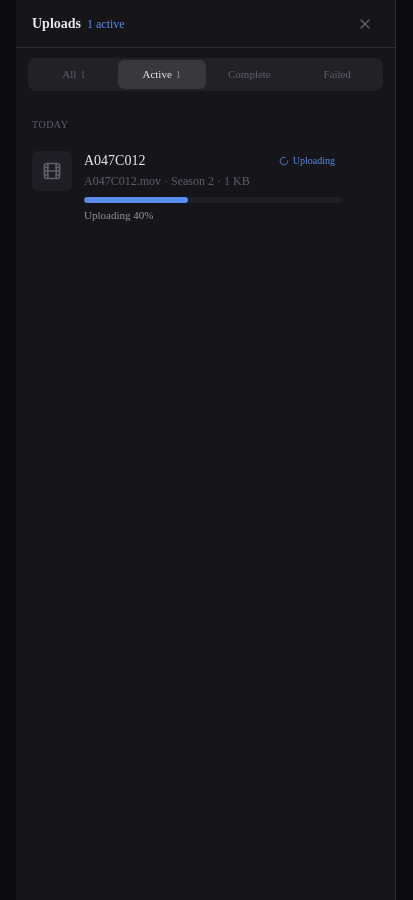
Test: renaming from the uploads panel › discards the edit on Escape
Click the button "A047C012" at (159, 160), box [84,150,235,170]
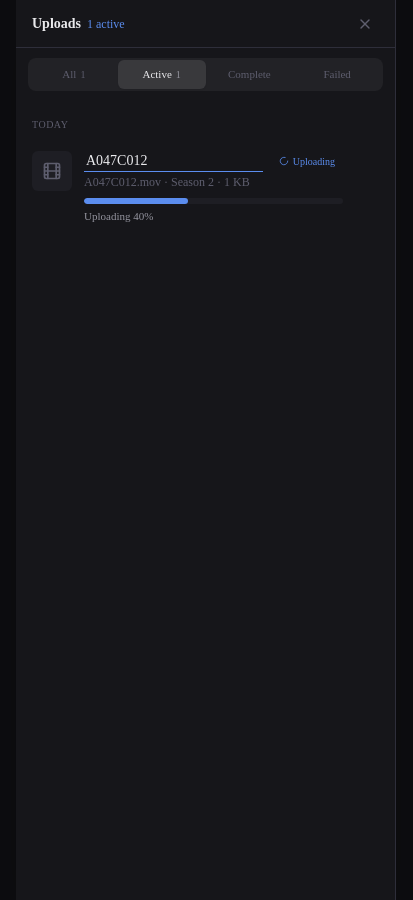
Replace the text in the field named "Asset name" with "Ep04" at (173, 161), box [84,150,263,172]
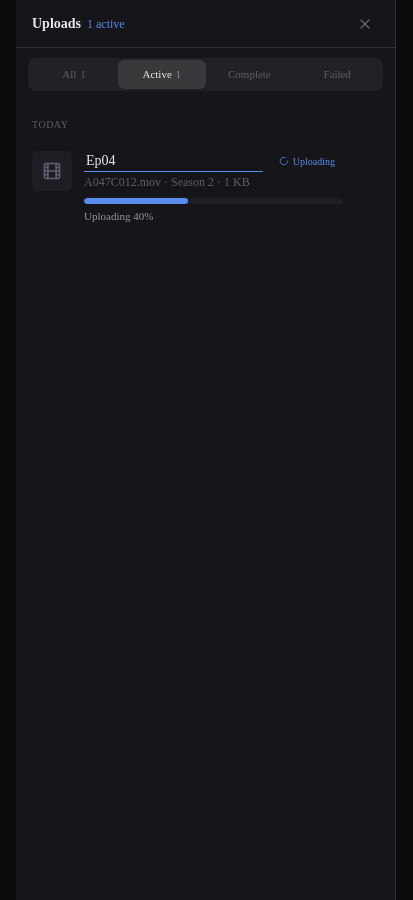
Press Escape in the field named "Asset name", box [84,150,263,172]
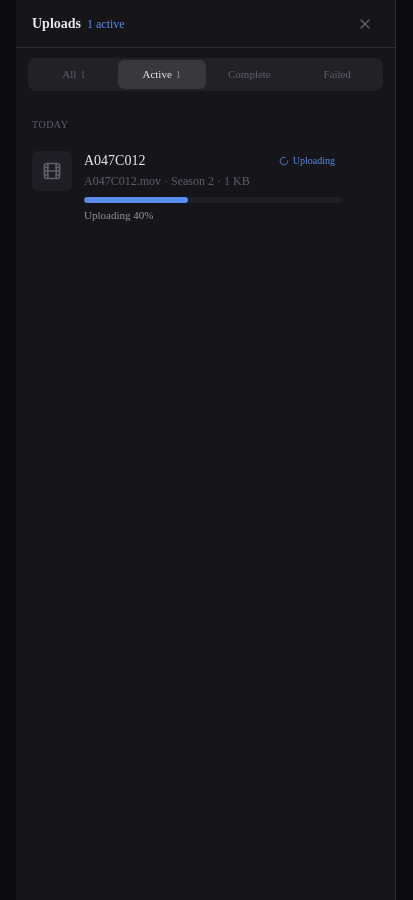
Result: the button "A047C012" is shown at [84,150,235,170]
